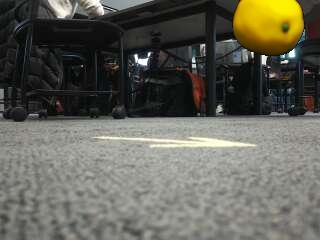lemon: (233, 0, 304, 56)
